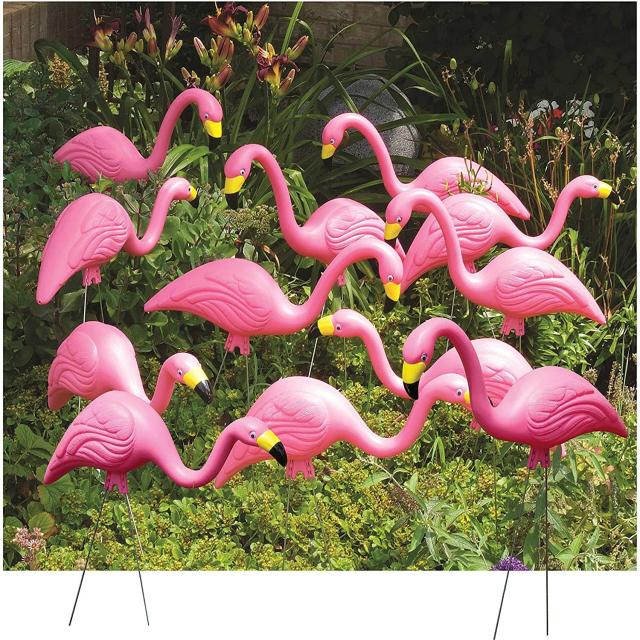Flamingo: (399, 314, 634, 473), (382, 186, 610, 332), (42, 388, 292, 492), (138, 232, 409, 327), (32, 175, 199, 304), (50, 83, 229, 188)
